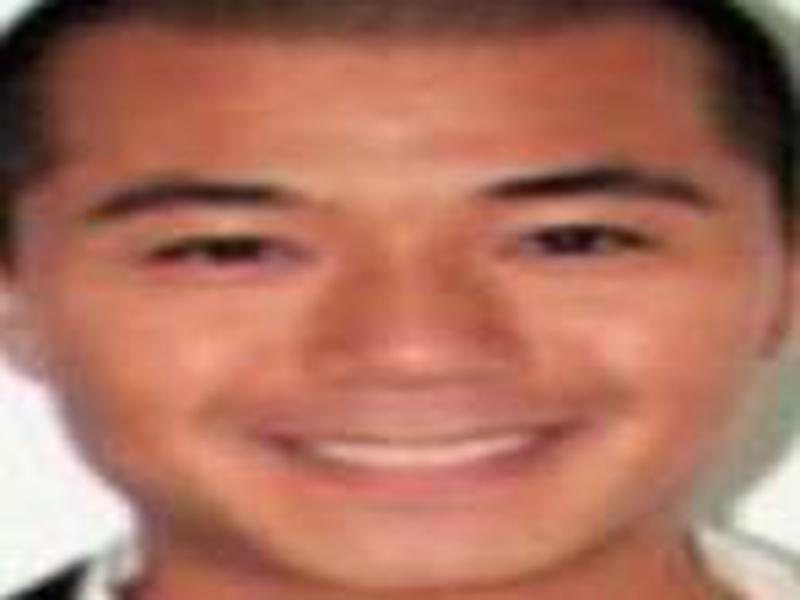without_mask: (36, 27, 746, 589)
